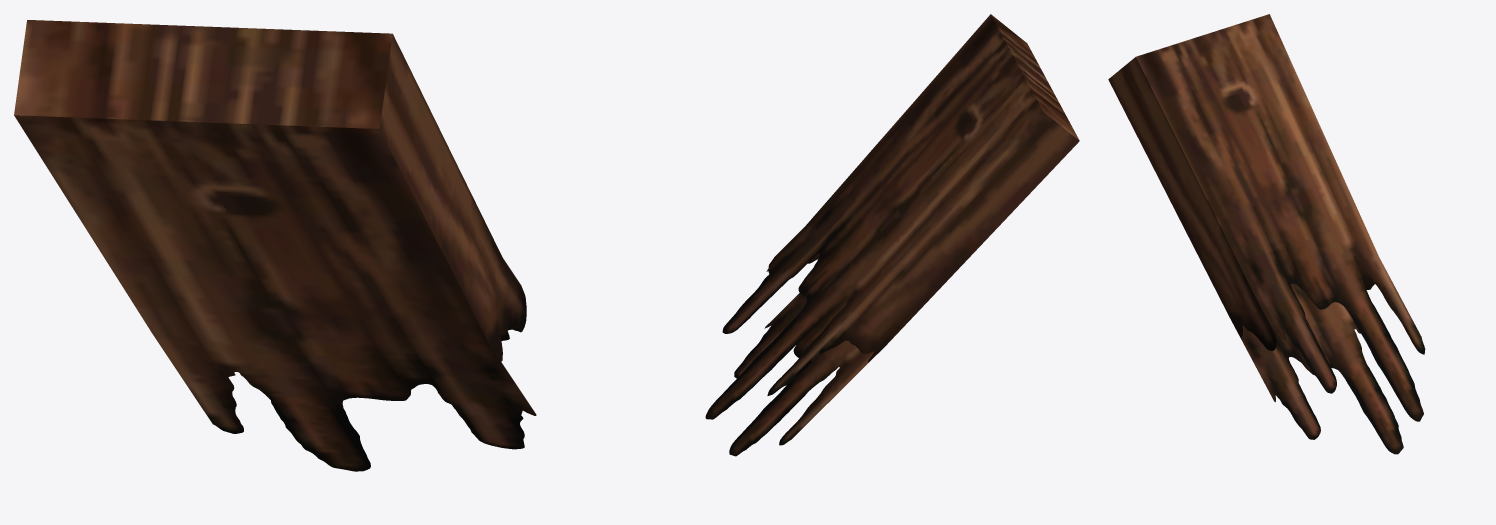
The model's file is OVERHILL_A_01_BROKEN_BOARD_04.fbx.
3 views of the same model, side by side, from view 1: azimuth 30°, elevation 25°; view 2: azimuth 150°, elevation 25°; view 3: azimuth 270°, elevation 25° (orthographic). The views are drawn at different scales.
Visible parts, largest first — view 1: OVERHILL_A_01_BROKEN_BOARD_04; view 2: OVERHILL_A_01_BROKEN_BOARD_04; view 3: OVERHILL_A_01_BROKEN_BOARD_04.
Part boxes in pixels (x1,y1,x2,y2): OVERHILL_A_01_BROKEN_BOARD_04: [14, 20, 536, 471]; OVERHILL_A_01_BROKEN_BOARD_04: [705, 14, 1079, 456]; OVERHILL_A_01_BROKEN_BOARD_04: [1108, 14, 1425, 454].
Bounding box in the file's own units: 7607 × 7555 × 6924.
Materials: 1 (1 with a texture image).
